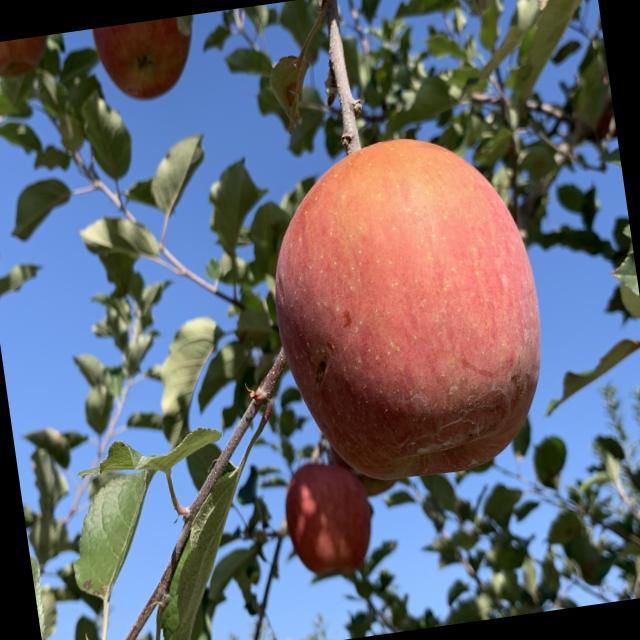fresh: (248, 115, 566, 504)
